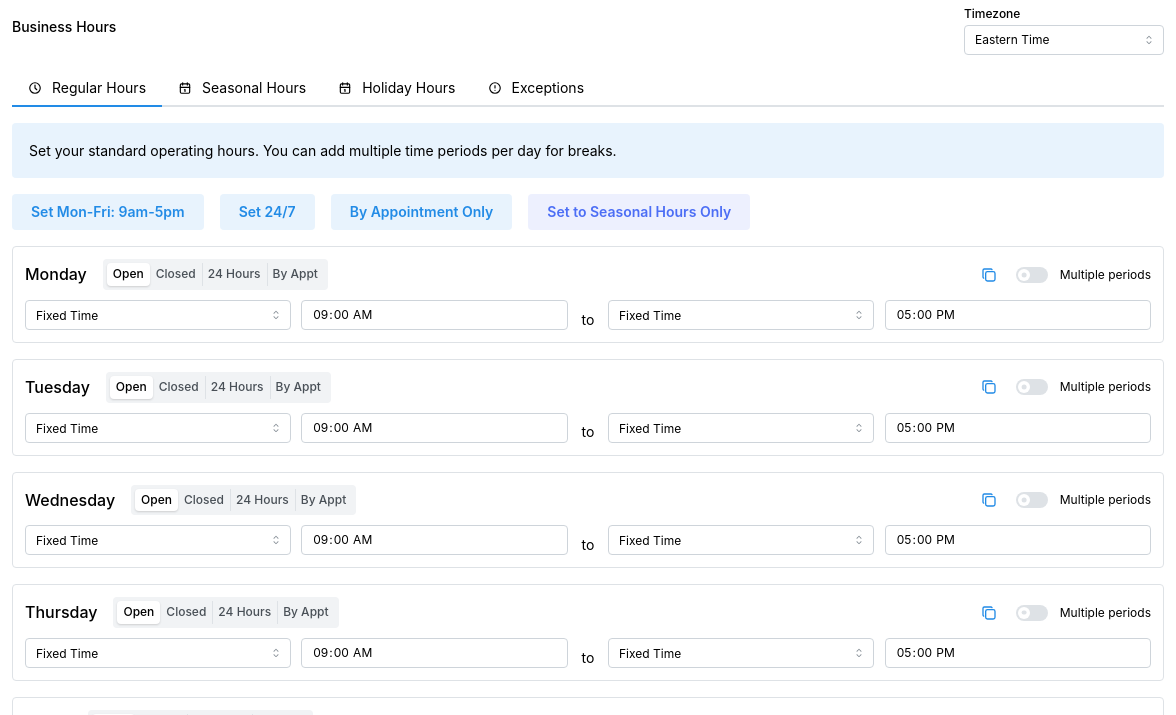
Test: HoursSelector — quick-set buttons (#46) › clicking "Set to Seasonal Hours Only" sets seasonal_only=true and switches to Seasonal tab
Step 1. Click the button "Set to Seasonal Hours Only" → (639, 212), box 528,194 -> 750,230
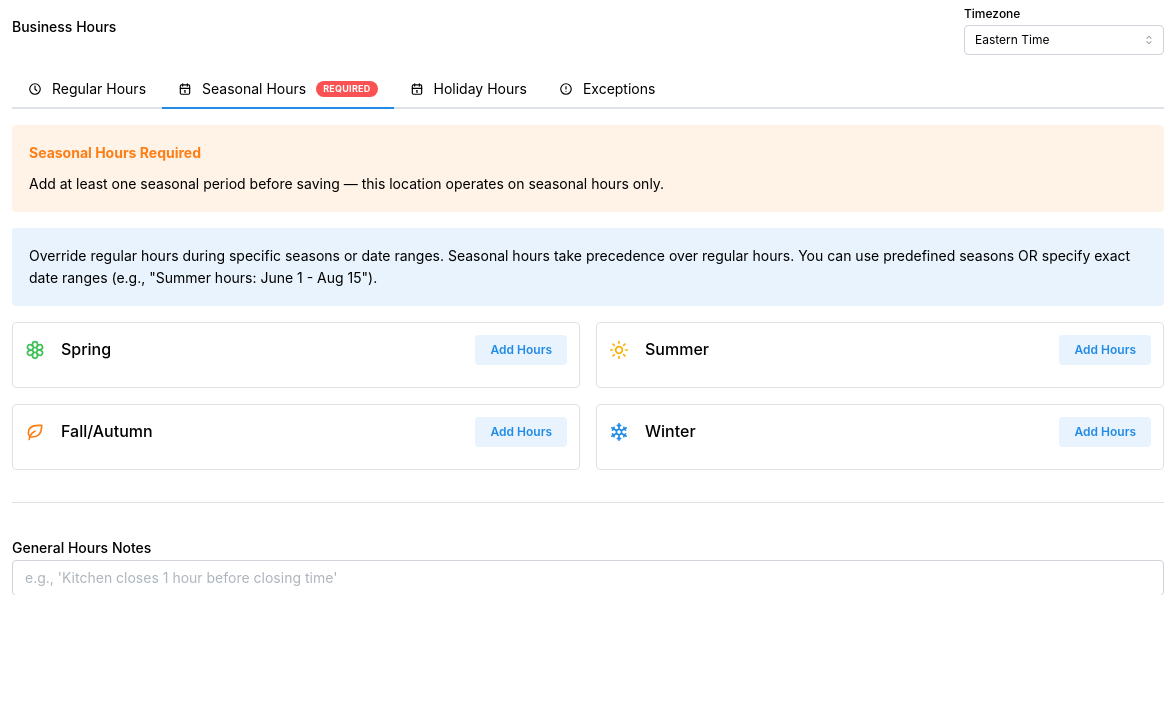
Now the text "Seasonal Hours Required" is shown, box 29,142 -> 201,164
